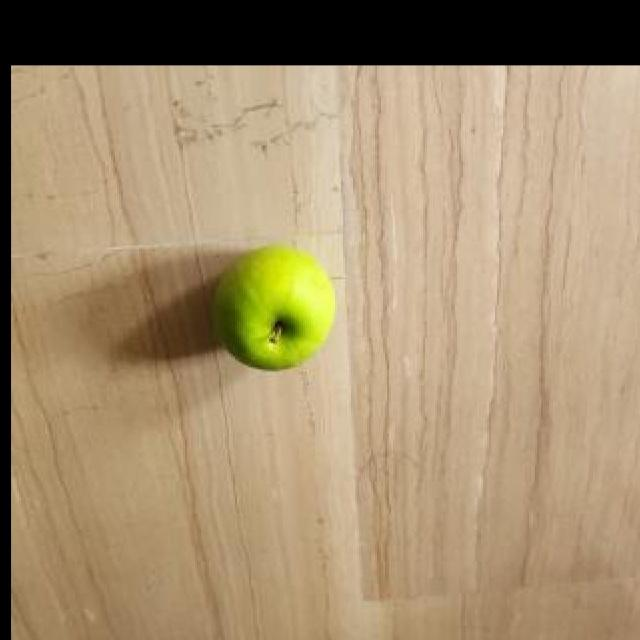green apple: (207, 238, 341, 378)
